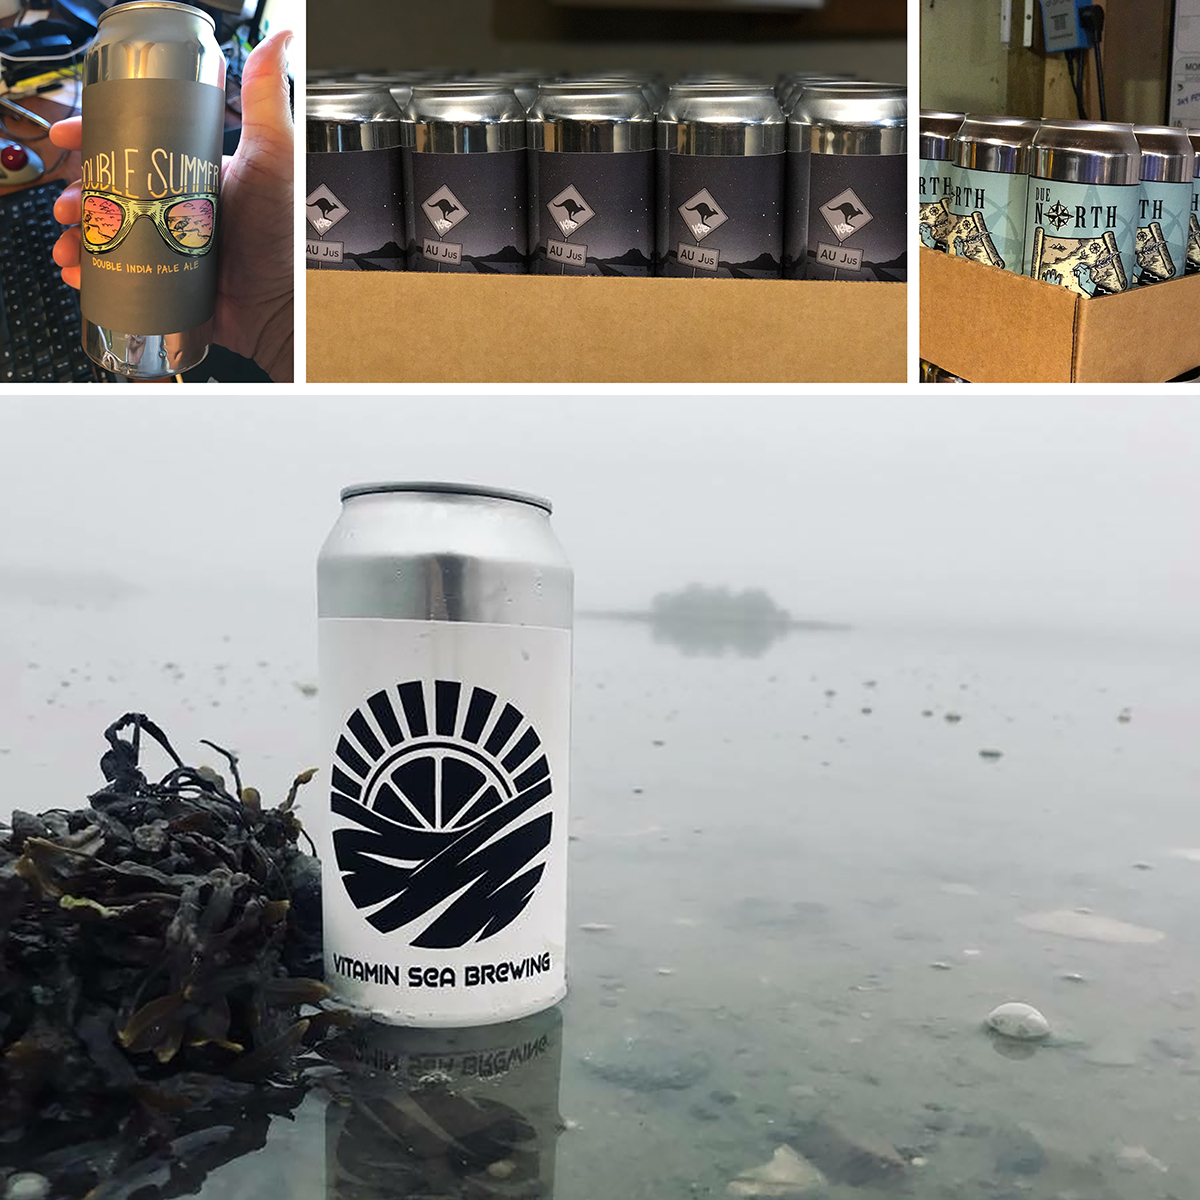beer can: (314, 473, 577, 1048), (77, 5, 221, 387), (521, 96, 662, 285), (1027, 93, 1140, 311), (401, 98, 529, 278), (662, 104, 792, 278), (301, 93, 403, 287), (955, 115, 1038, 287)
